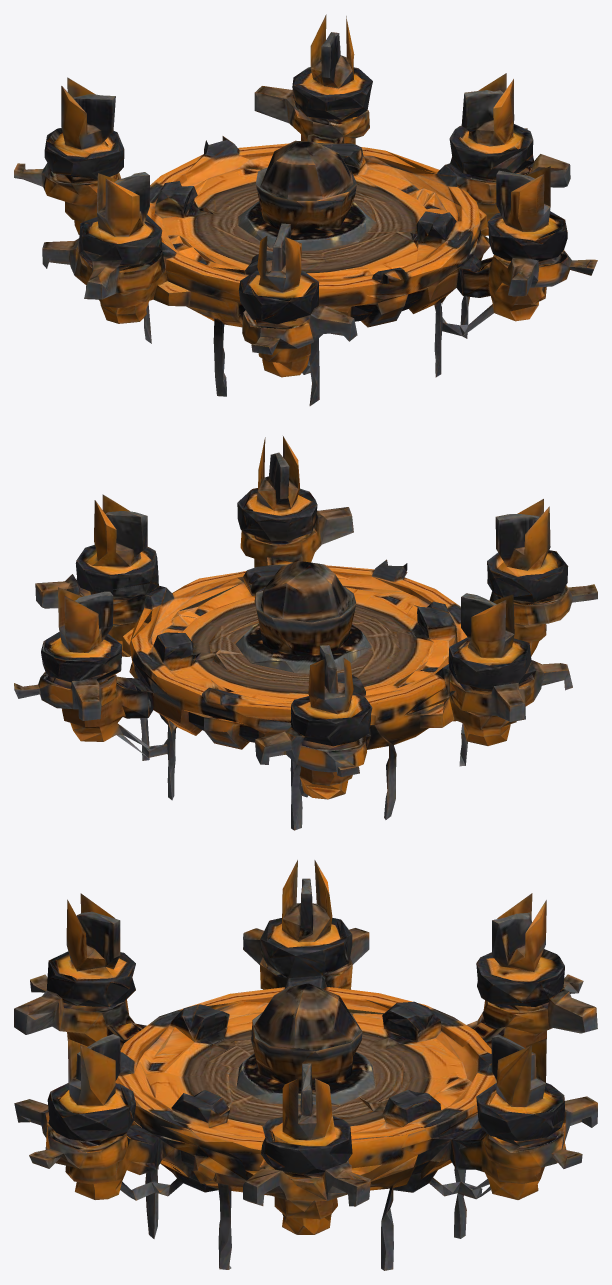
The model's file is nation-o-fortress.glb.
3 views of the same model, one above another, from view 1: azimuth 30°, elevation 25°; view 2: azimuth 150°, elevation 25°; view 3: azimuth 270°, elevation 25° (orthographic). The views are drawn at different scales.
Size of the model in its own units: 1.9 by 0.7932 by 1.78.
1 material, 1 textured.
